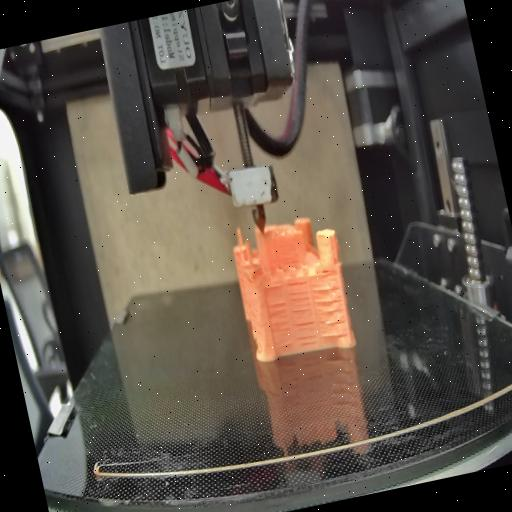cracks: (310, 280, 348, 340), (264, 298, 296, 351), (286, 280, 313, 316), (293, 318, 320, 348), (280, 254, 300, 269), (261, 280, 284, 293), (316, 262, 333, 276)
